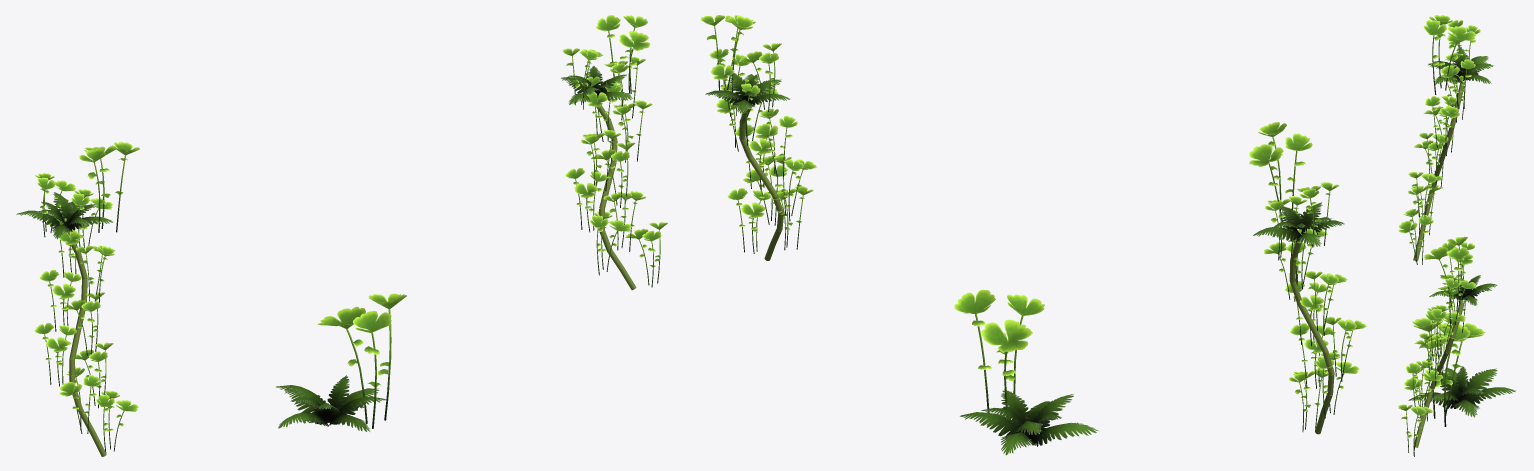
The model's file is Split_Rail_Fence_Greenery.glb.
The picture shows the model from 3 angles, left to right: view 1: azimuth 30°, elevation 25°; view 2: azimuth 150°, elevation 25°; view 3: azimuth 270°, elevation 25°; orthographic projection. The views are drawn at different scales.
Parts seen in each view (by area): view 1: Patch_00, Patch_02, Patch_01; view 2: Patch_00, Patch_02, Patch_01; view 3: Patch_00, Patch_02, Patch_01.
Part boxes in pixels (<box>): Patch_00: <box>16,141,139,456</box>; Patch_02: <box>561,15,667,290</box>; Patch_01: <box>276,293,406,432</box>; Patch_00: <box>1249,122,1366,434</box>; Patch_02: <box>700,15,817,260</box>; Patch_01: <box>954,289,1099,455</box>; Patch_00: <box>1398,15,1494,264</box>; Patch_02: <box>1397,236,1497,456</box>; Patch_01: <box>1408,318,1516,426</box>.
Size of the model in its own units: 3.46 by 1.86 by 0.6974.
3 materials, 2 textured.
